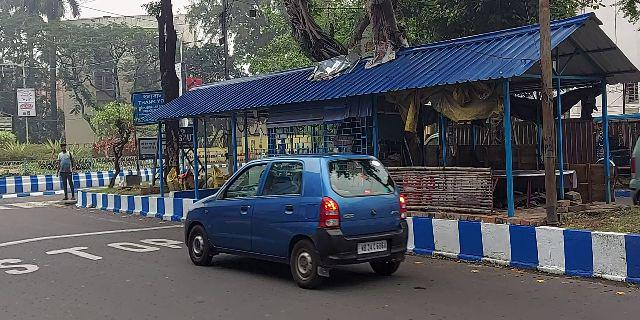Car: (173, 150, 418, 276)
